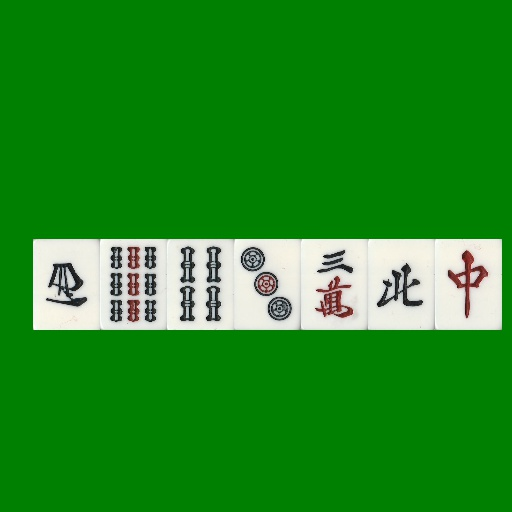3m: (301, 239, 368, 330)
3p: (234, 239, 301, 330)
4s: (167, 239, 234, 330)
9s: (100, 239, 167, 330)
north: (368, 239, 435, 330)
tyun: (435, 239, 502, 330)
west: (33, 239, 100, 330)
